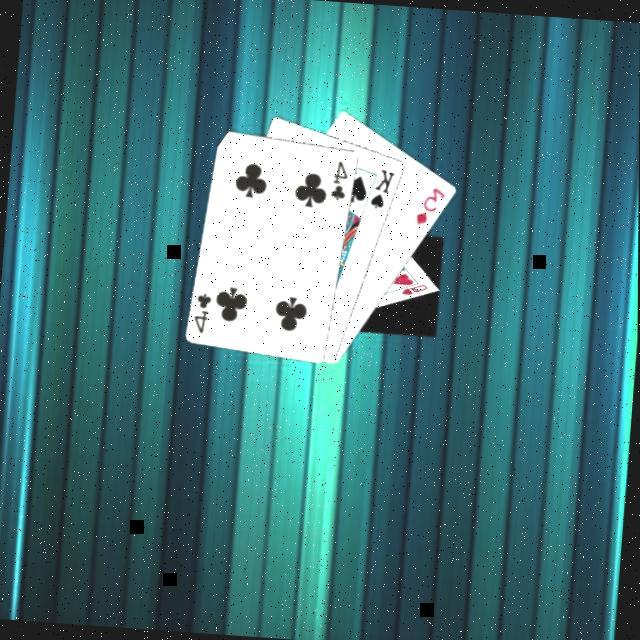3D: (413, 181, 450, 227)
4C: (328, 154, 353, 201), (191, 287, 216, 334)
KS: (368, 162, 399, 210)
